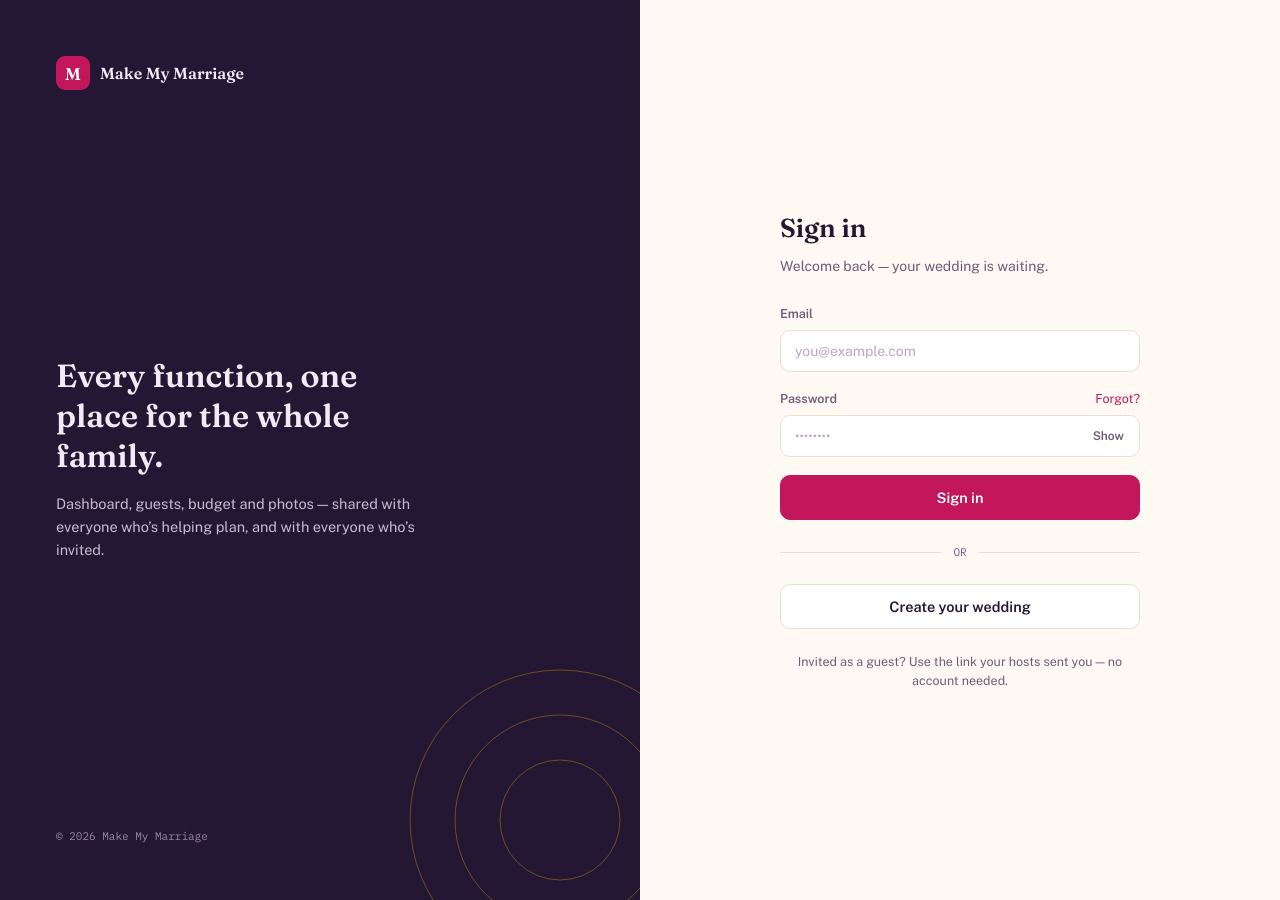
Test: Sign in › shows field messages under the inputs
Type "not-an-email" into the field labelled "Email".
click(960, 351); type("not-an-email")  # box [780,330,1140,372]
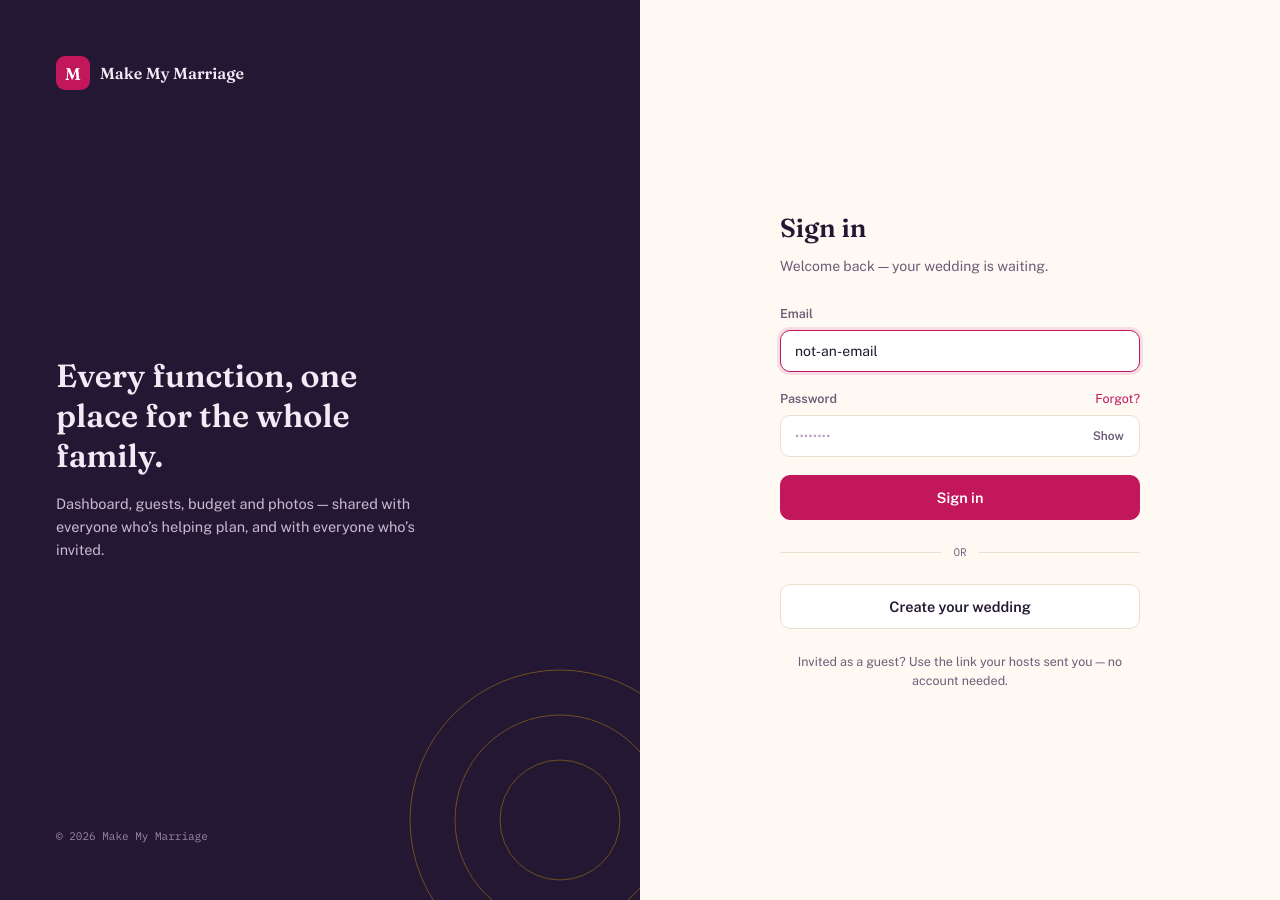
Type "x" into the password field labelled "Password".
click(960, 436); type("x")  # box [780,415,1140,457]
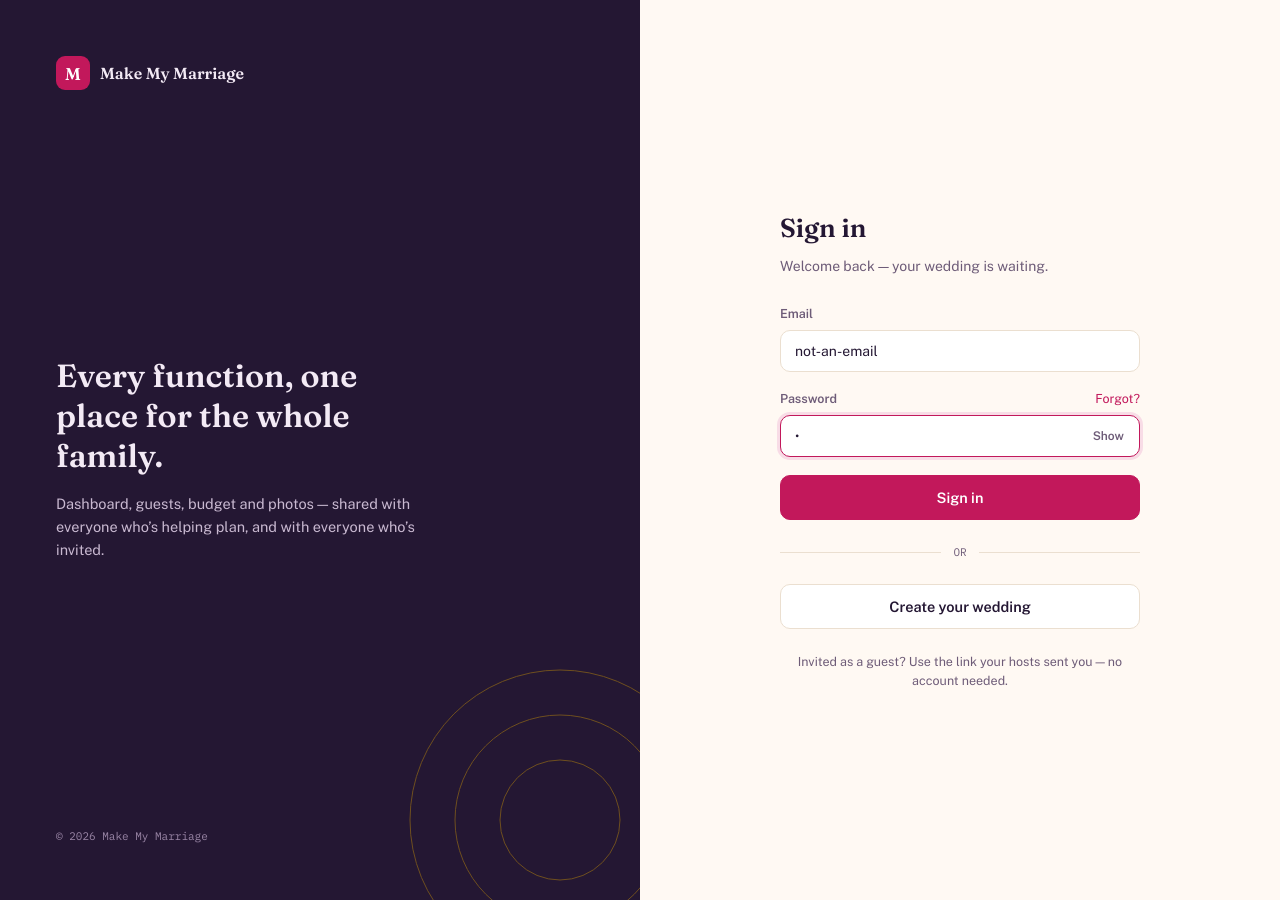
Click the button "Sign in".
click(960, 497)  # box [780,475,1140,520]
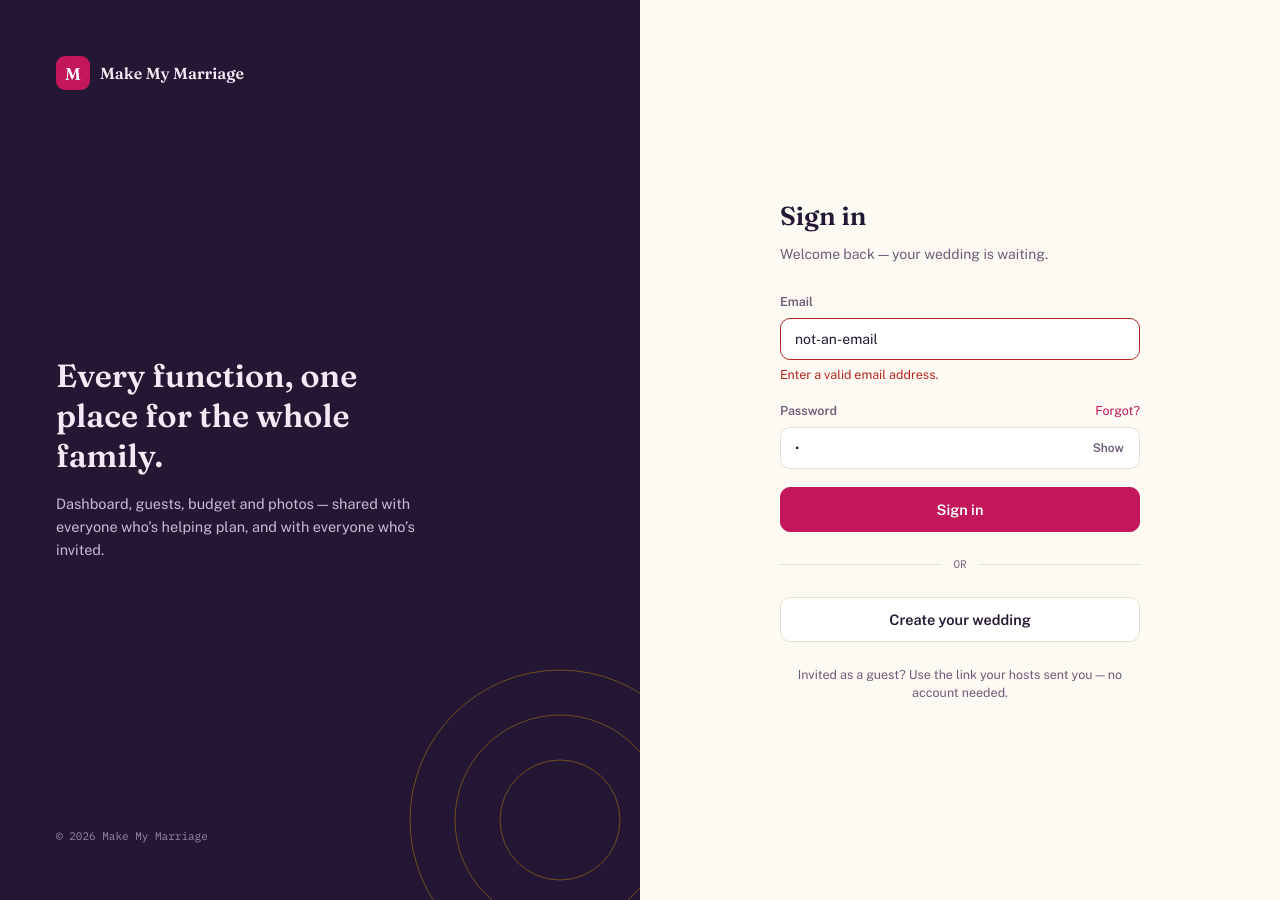
Check: the text "Enter a valid email address." is shown, box [780,367,938,382]
